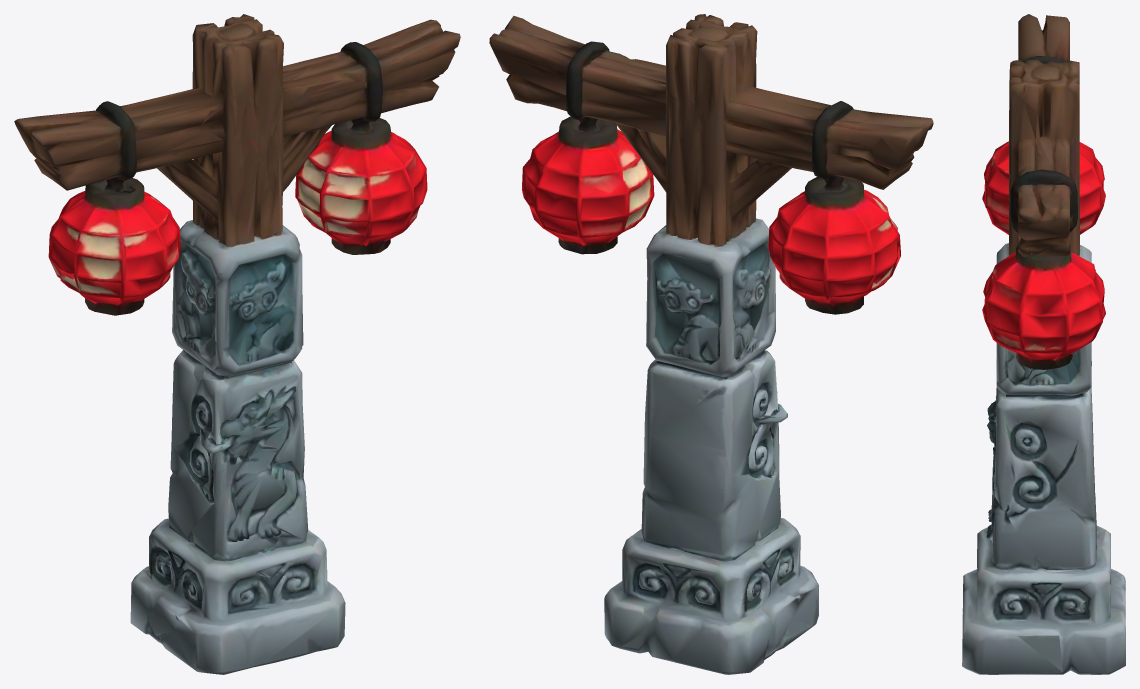
The model's file is prop_lantern_post.fbx.
3 renders of one model, left to right at view 1: azimuth 30°, elevation 25°; view 2: azimuth 150°, elevation 25°; view 3: azimuth 270°, elevation 25°, orthographic. The views are drawn at different scales.
Visible parts, largest first — view 1: tripo_node_6d5a4573-3ea8-44f5-8943-5d84845f8844; view 2: tripo_node_6d5a4573-3ea8-44f5-8943-5d84845f8844; view 3: tripo_node_6d5a4573-3ea8-44f5-8943-5d84845f8844.
Part boxes in pixels (x1,y1,x2,y2): tripo_node_6d5a4573-3ea8-44f5-8943-5d84845f8844: [14, 14, 460, 674]; tripo_node_6d5a4573-3ea8-44f5-8943-5d84845f8844: [489, 14, 933, 674]; tripo_node_6d5a4573-3ea8-44f5-8943-5d84845f8844: [962, 14, 1125, 674].
Size of the model in its own units: 0.7294 by 0.9812 by 0.2555.
